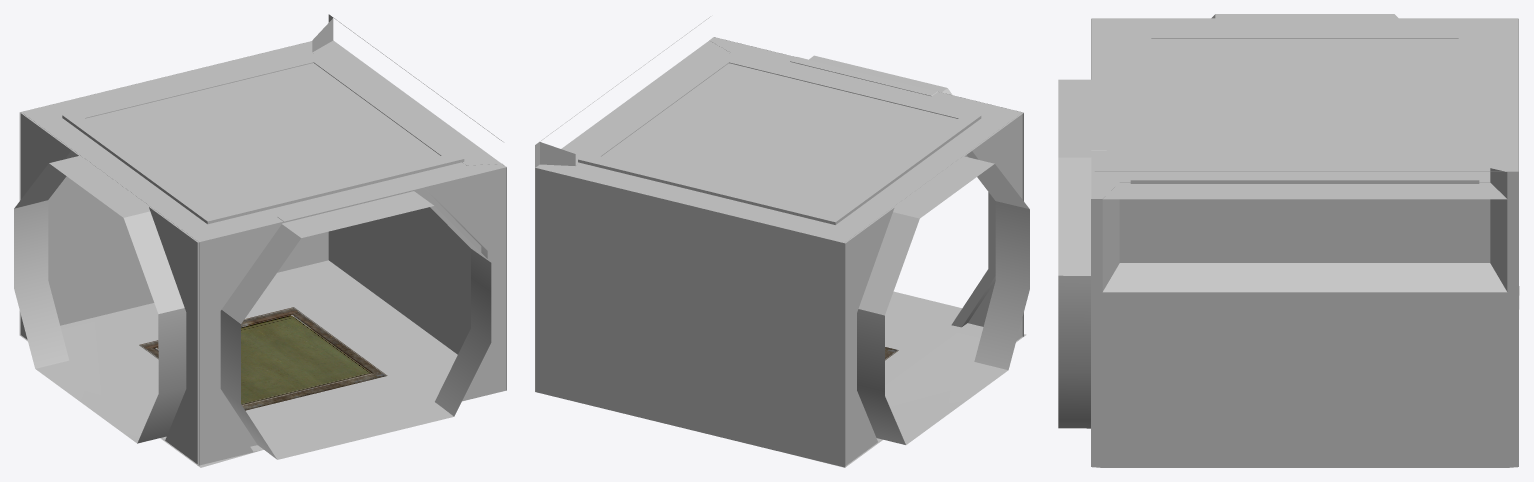
The model's file is 2G_L_Corridor.fbx.
3 renders of one model, left to right at view 1: azimuth 30°, elevation 25°; view 2: azimuth 150°, elevation 25°; view 3: azimuth 270°, elevation 25°, orthographic. The views are drawn at different scales.
Parts seen in each view (by area): view 1: 2GL (2); view 2: 2GL (2); view 3: 2GL (2).
Boxes of the visible parts, x1=… form: 2GL (2): x1=14, y1=14, x2=506, y2=467; 2GL (2): x1=535, y1=16, x2=1029, y2=467; 2GL (2): x1=1058, y1=14, x2=1519, y2=467.
Size of the model in its own units: 485 by 345 by 487.
